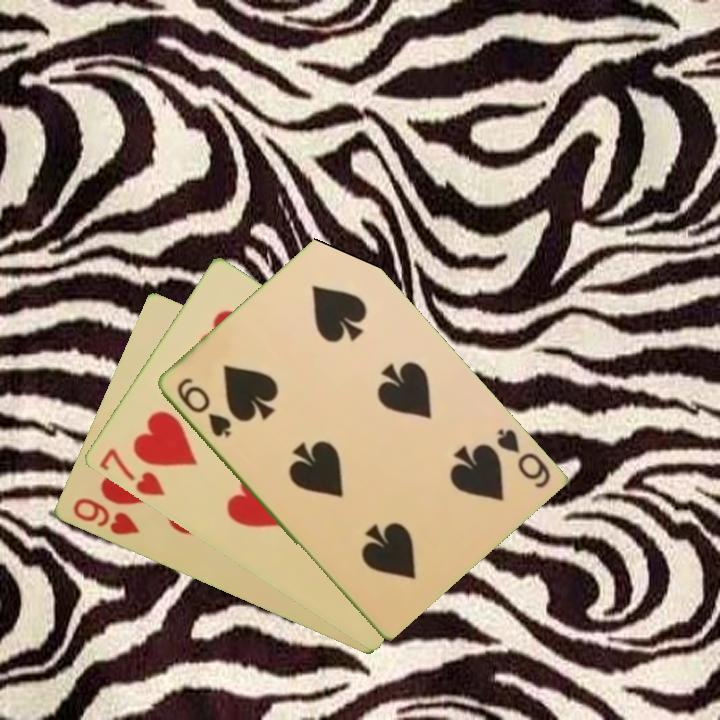6s: (173, 374, 234, 441), (492, 425, 553, 492)
7h: (94, 445, 168, 499)
9h: (68, 494, 142, 539)
